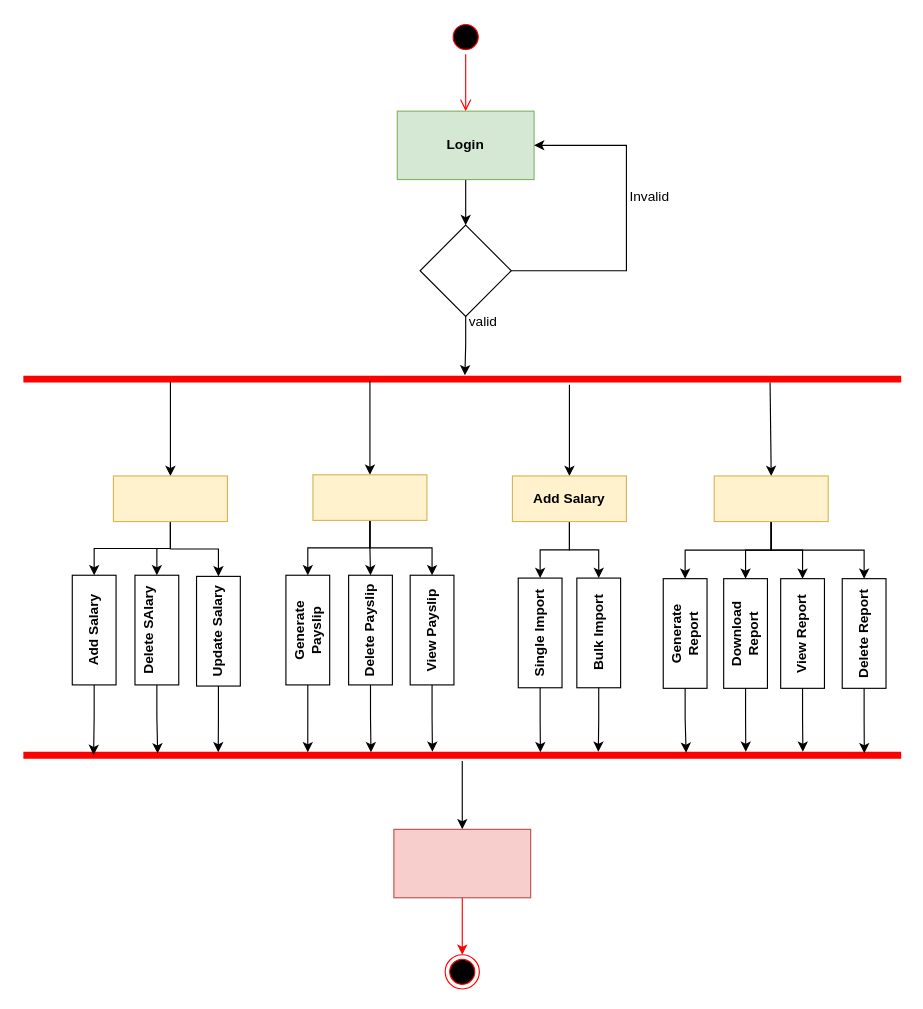
Image size: 923x1009. Some labels were removed from this diagram. The shapes that lost their labels are listed below. From the top down, each one's centre as x and y in pixels, then its label:
(x=465, y=270): Authentication
(x=169, y=498): Mange Salary
(x=369, y=497): Mange Payslip
(x=770, y=498): Manage Salary Report
(x=462, y=863): Logout
